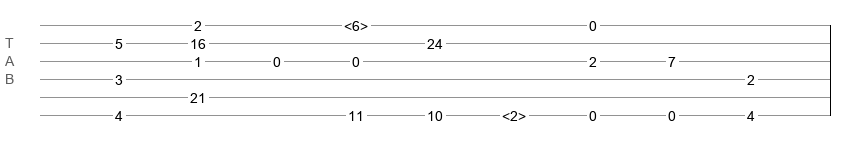0: (273, 54, 281, 64), (352, 54, 360, 64), (589, 18, 597, 28), (589, 108, 597, 118), (668, 108, 676, 118)
1: (194, 54, 202, 64)
10: (427, 108, 443, 118)
11: (348, 108, 364, 118)
16: (190, 36, 206, 46)
2: (194, 18, 202, 28), (589, 54, 597, 64), (747, 72, 755, 82)
21: (190, 90, 206, 100)
24: (427, 36, 443, 46)
3: (115, 72, 123, 82)
4: (115, 108, 123, 118), (747, 108, 755, 118)
5: (115, 36, 123, 46)
7: (668, 54, 676, 64)
harmonic: (344, 18, 368, 28), (502, 108, 526, 118)
